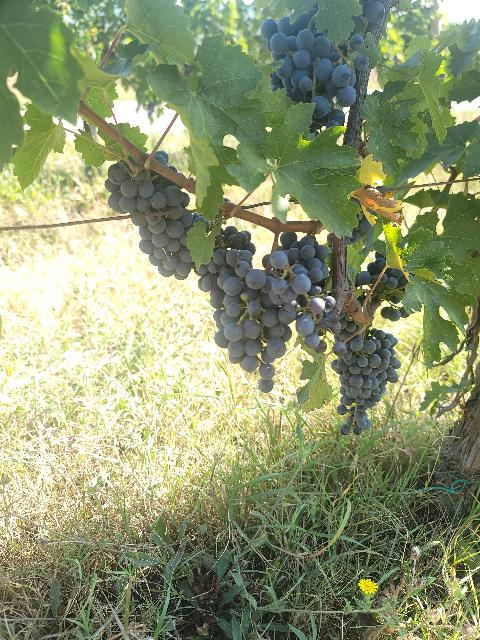grapes: (215, 232, 340, 392), (260, 8, 364, 135), (105, 160, 194, 279), (331, 328, 401, 435), (196, 225, 255, 348)
